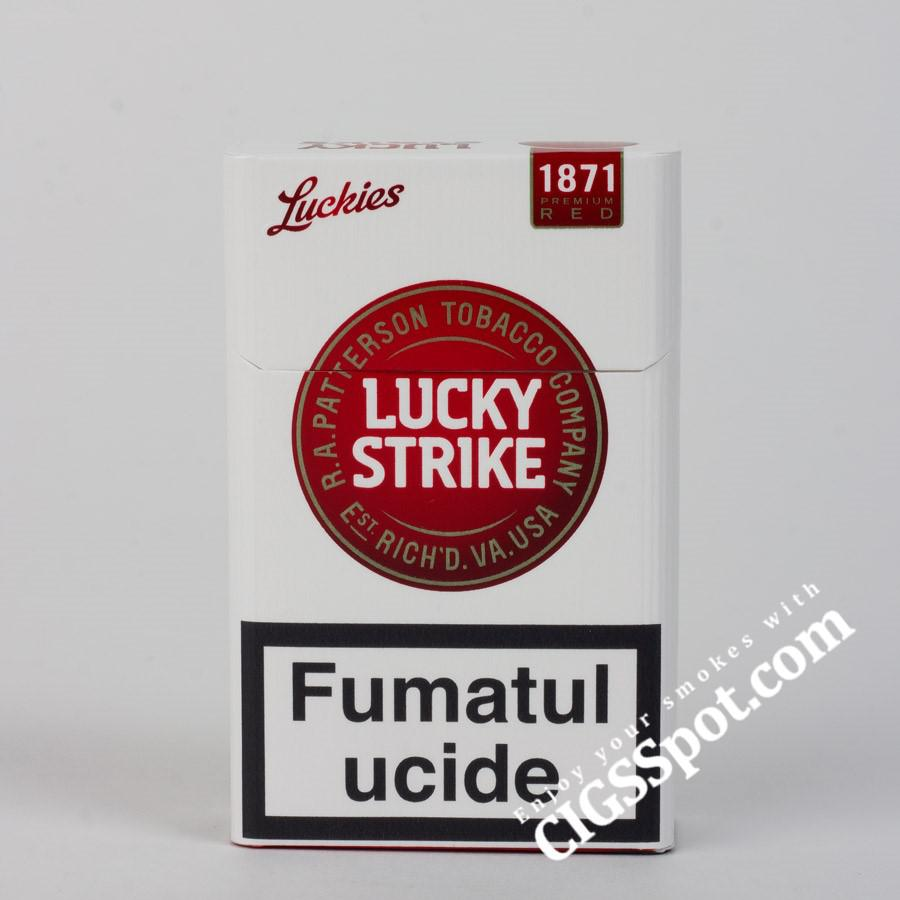lucky_strike_red: (234, 158, 664, 851)
